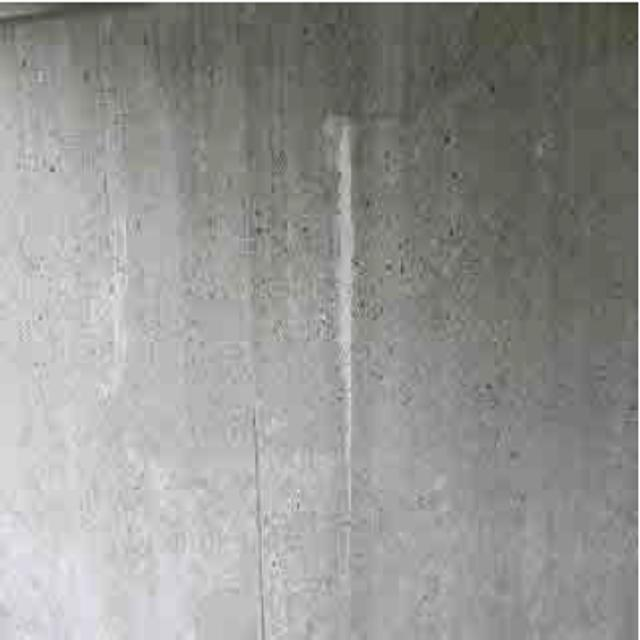freelime: (314, 111, 380, 442)
